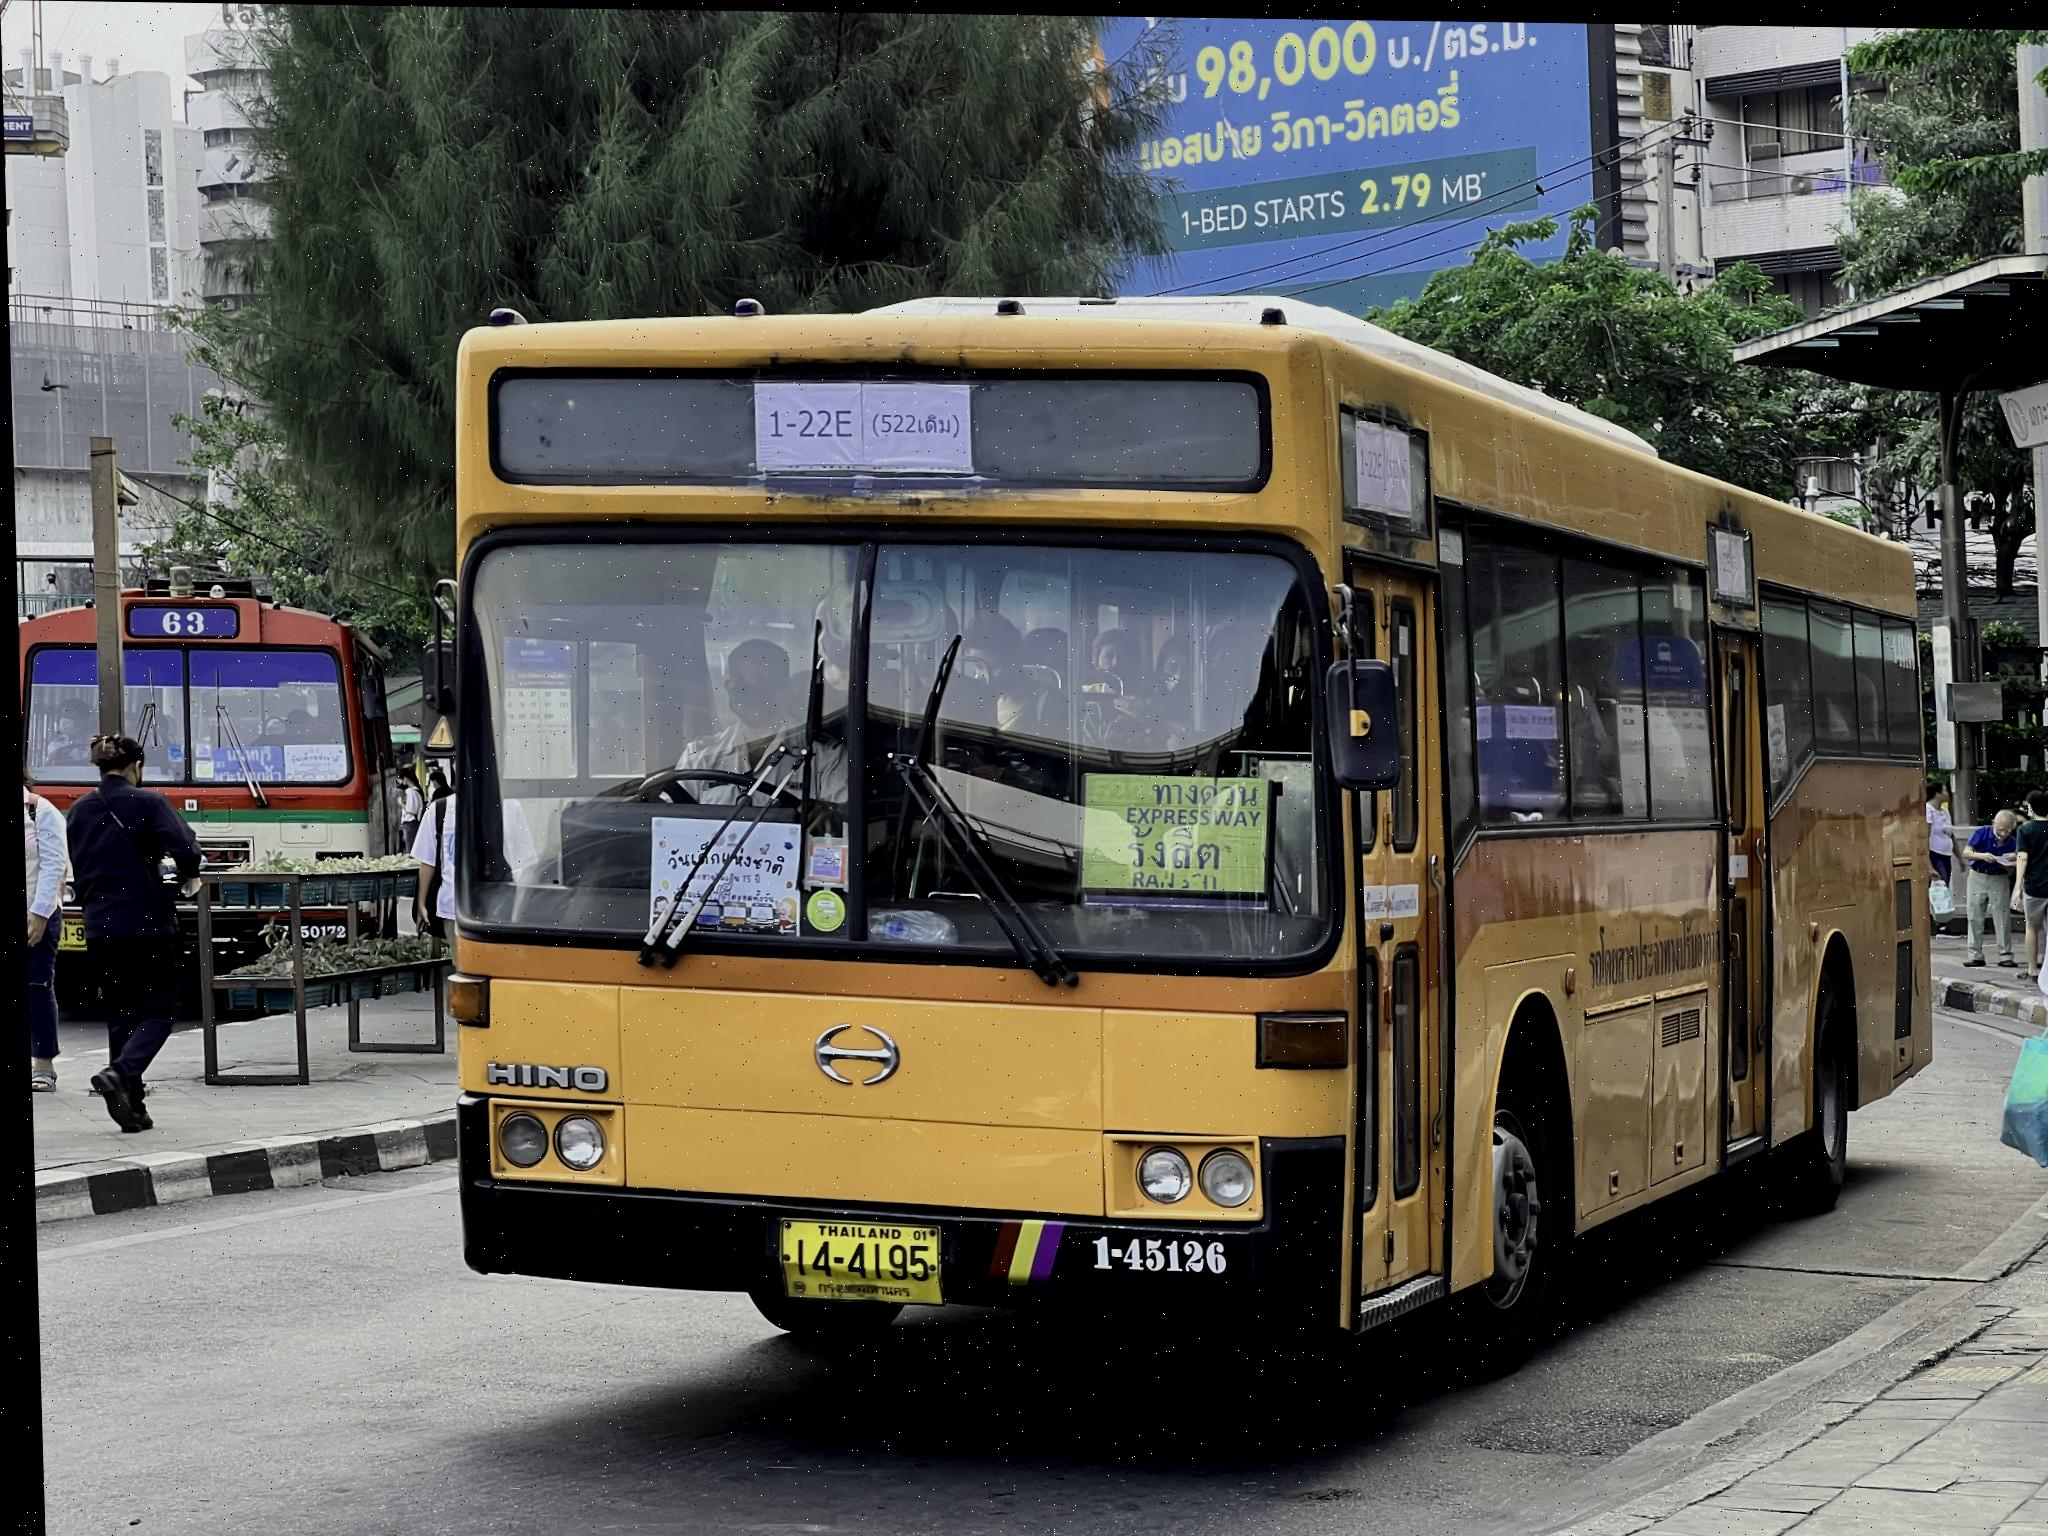BMTA-bus: (429, 294, 1932, 1371), (15, 582, 424, 1004)
Bus Line Number: (748, 369, 976, 484), (150, 605, 208, 634)
Bus Side Number: (1074, 1213, 1245, 1292)
Destination Sign: (1059, 763, 1271, 897)
